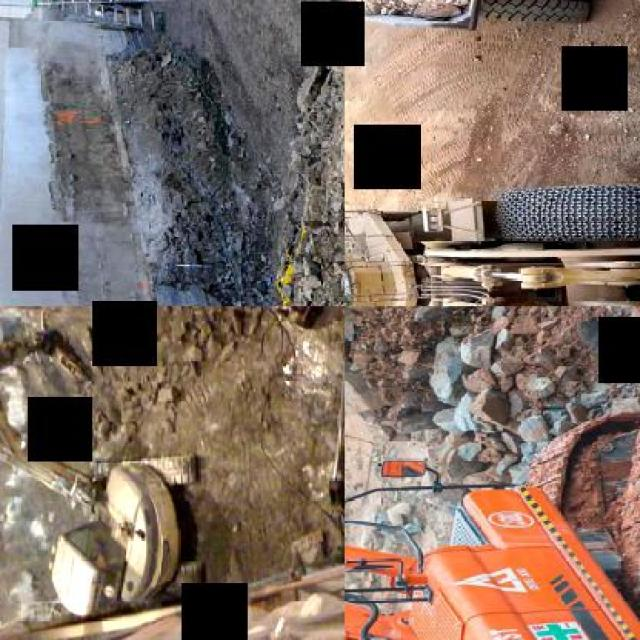buldozerpayloadergrader: (344, 146, 638, 305)
excavator: (344, 306, 638, 639), (0, 323, 203, 617)
